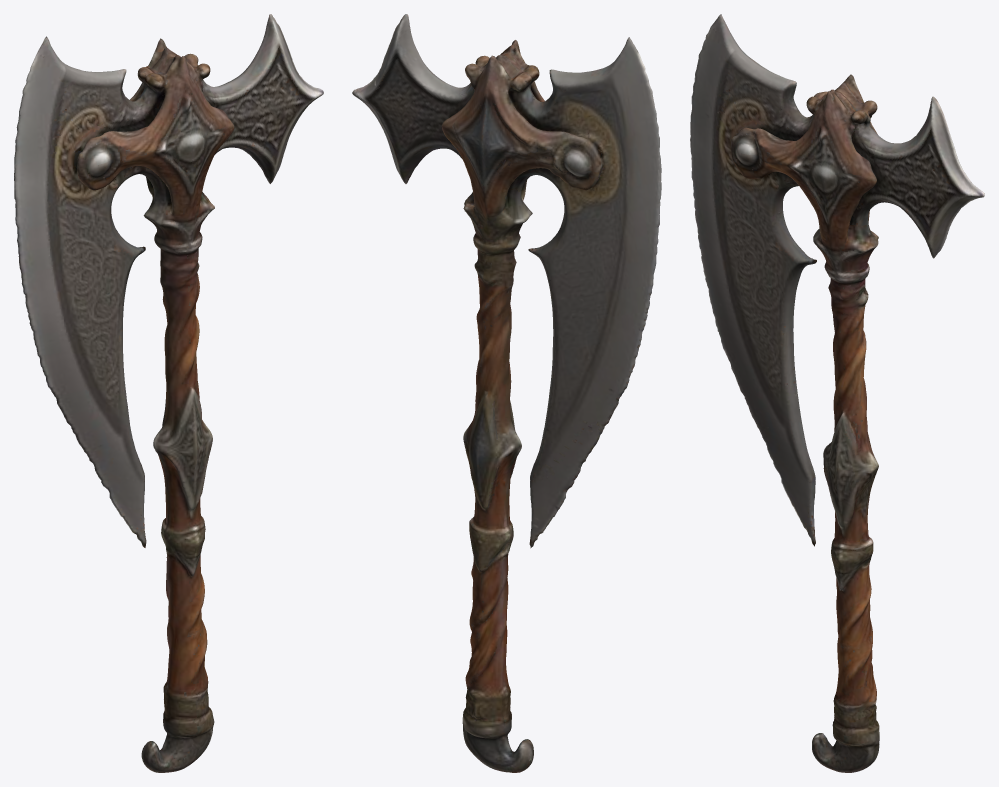
The model's file is PF_Axe5.glb.
3 views of the same model, side by side, from view 1: azimuth 30°, elevation 25°; view 2: azimuth 150°, elevation 25°; view 3: azimuth 330°, elevation 25° (orthographic). The views are drawn at different scales.
Bounding box in the file's own units: 0.8436 × 1.99 × 0.1853.
Materials: 1 (1 with a texture image).
